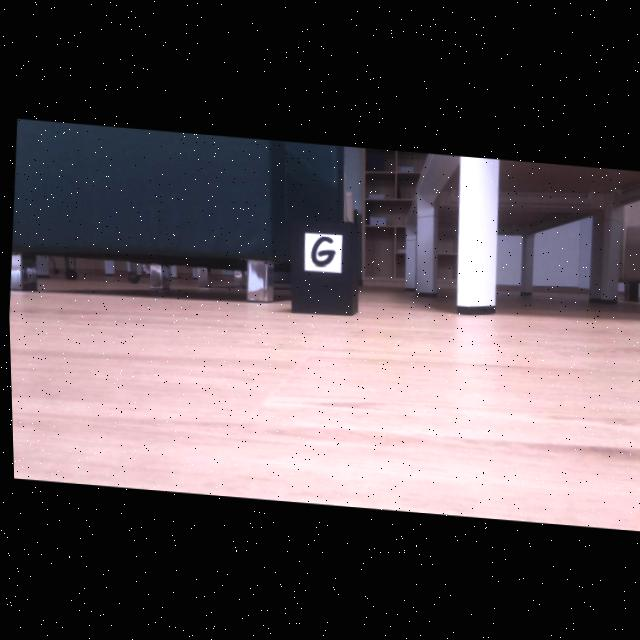G: (309, 236, 333, 264)
